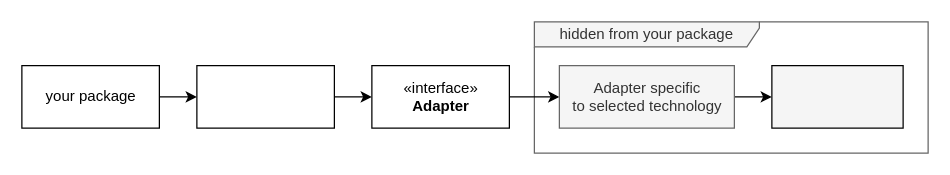
Some shapes in this 950 by 175 pixel diagram are drawn without their labels. The centre of each missing label's shape, as x and y in pixels:
"Logger" belongs at (x=265, y=96).
"Logrus, Zap, Zerolog etc." belongs at (x=837, y=96).
